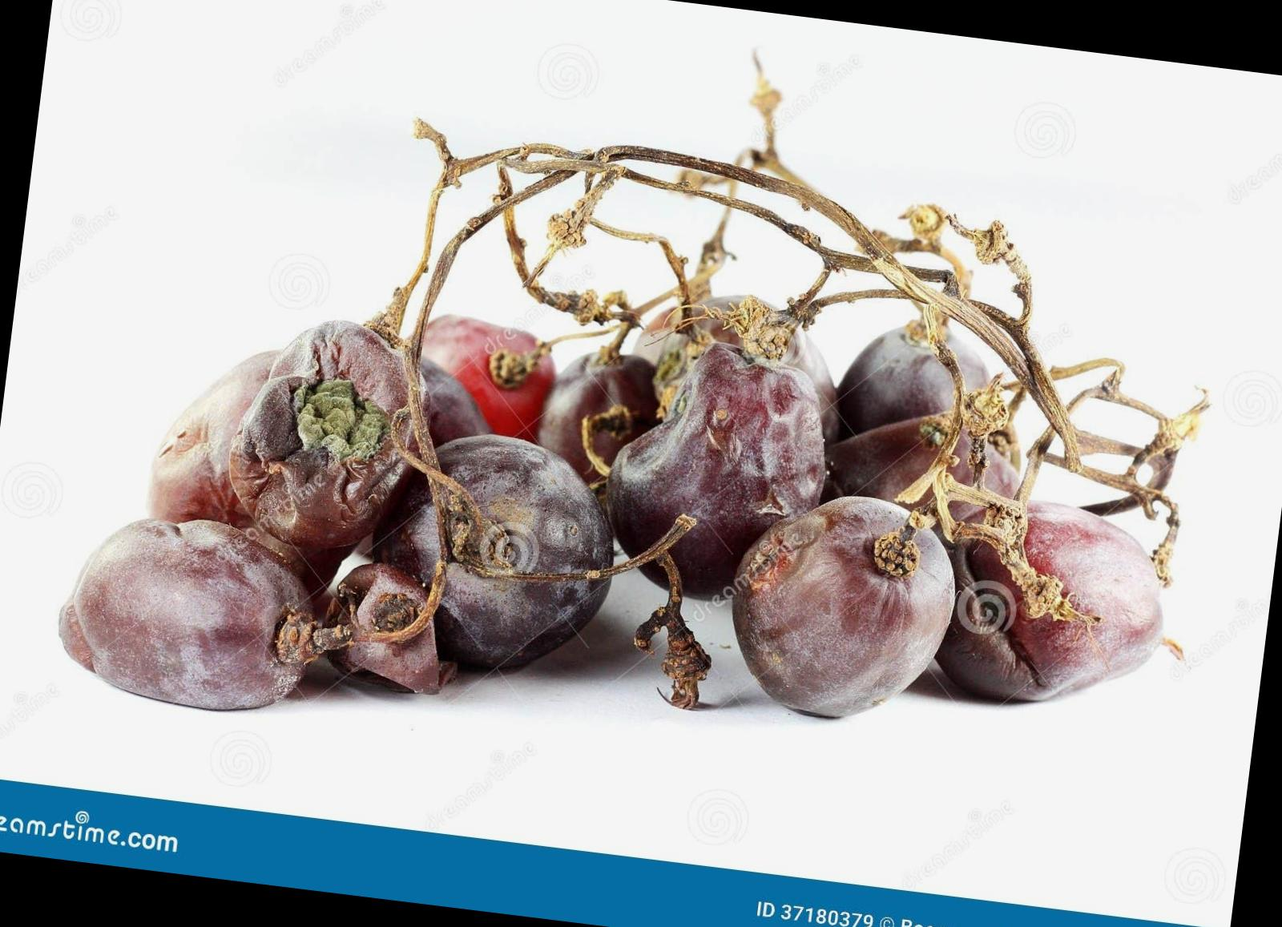Grape Rotten: (50, 208, 1213, 824), (716, 479, 968, 732)
